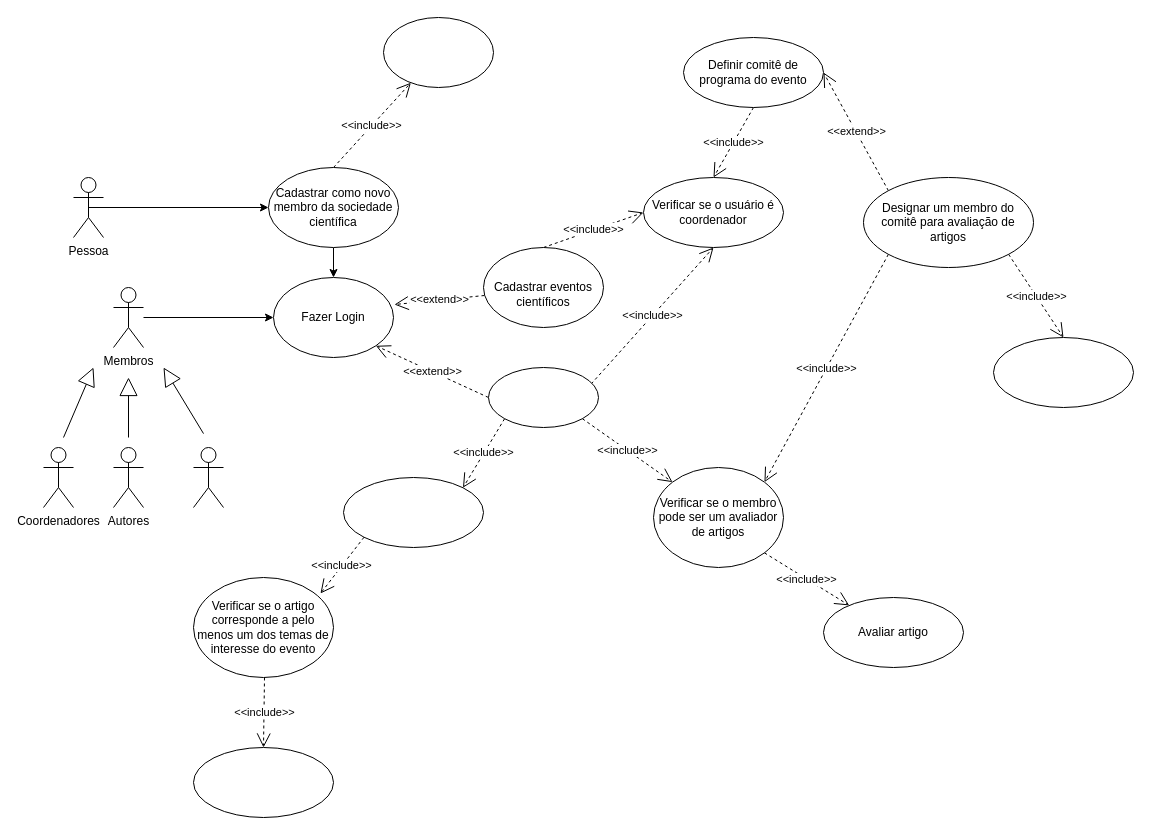
Some shapes in this 1151 by 835 pixel diagram are drawn without their labels. The box of each missing label's shape, as (x1, y1, x2, y2) in pixels:
Cadastrar instituição: (382, 16, 494, 88)
Membros do comitê: (192, 446, 224, 508)
Submeter artigo: (192, 746, 334, 818)
Submissão de artigos: (488, 366, 598, 428)
Verificar se o artigo possui pelo menos três avaliadores: (992, 336, 1134, 408)
Verificar se o usuário é um autor: (342, 476, 484, 548)
